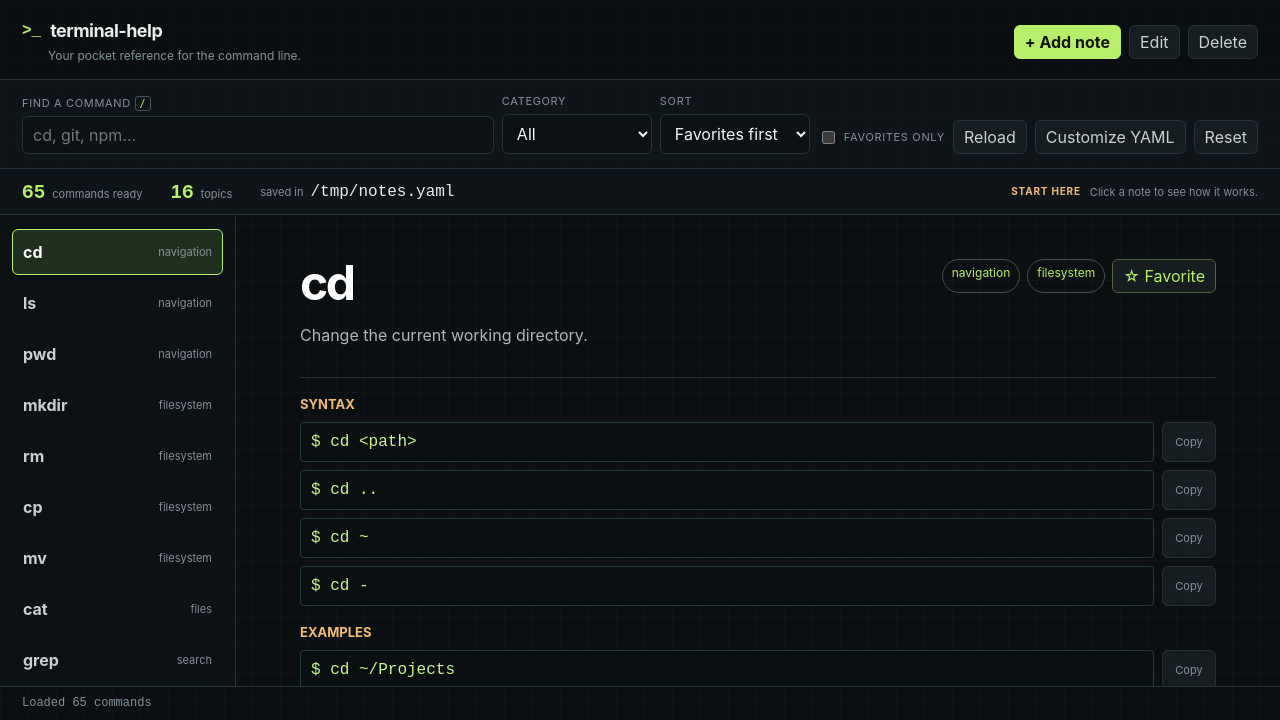
Scenario: renderer app › shows command details and filters the command list
expect the text "Change the current working directory." is shown: met, box [300,323,588,347]
Step 1. Type "npm" into the field named "Search commands" → (258, 135), box [22,116,494,154]
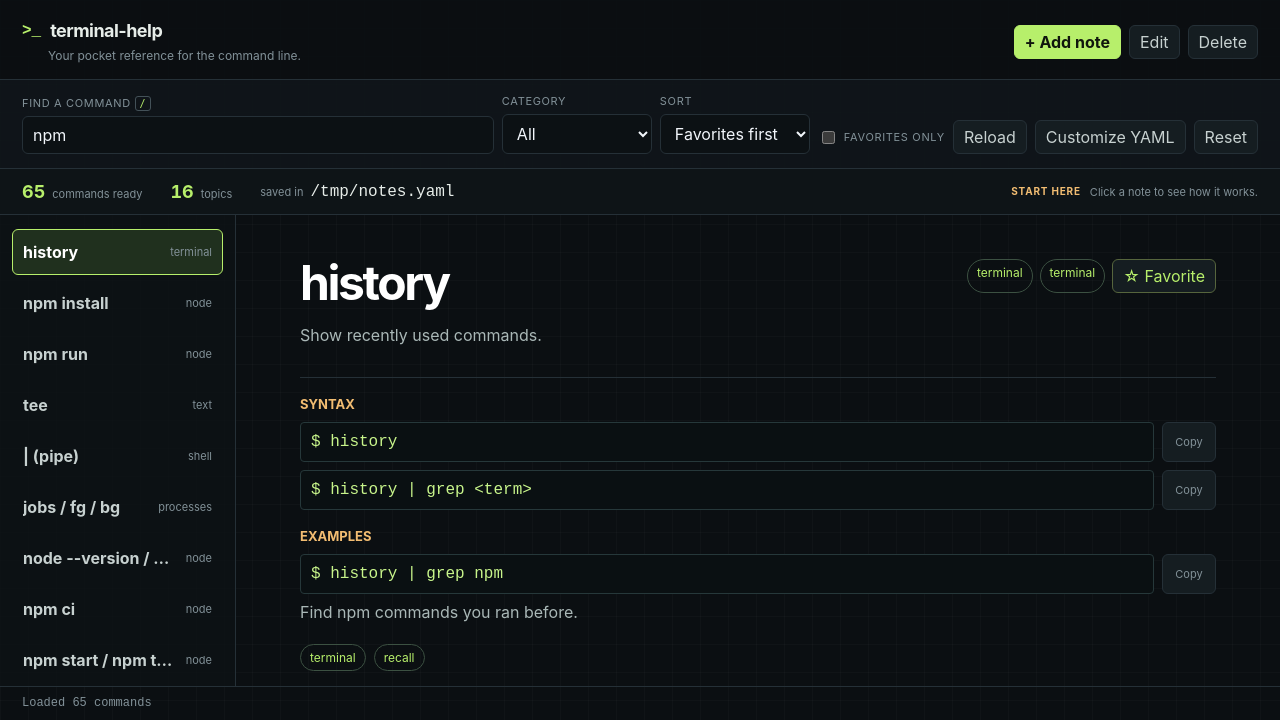
expect the button "npm install node" is shown: met, box [12,280,223,326]
